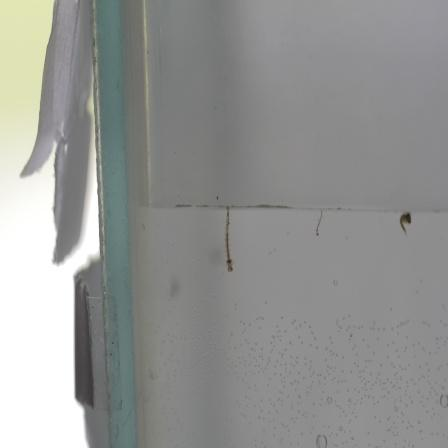Jentik-Nyamuk: (218, 203, 242, 278), (311, 206, 328, 241), (396, 208, 415, 238)
